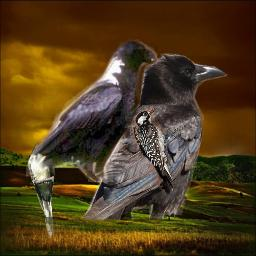Crow: (82, 53, 228, 220), (26, 35, 158, 182)
Cuckoo: (28, 141, 59, 238)
Woodpecker: (129, 104, 187, 194)
